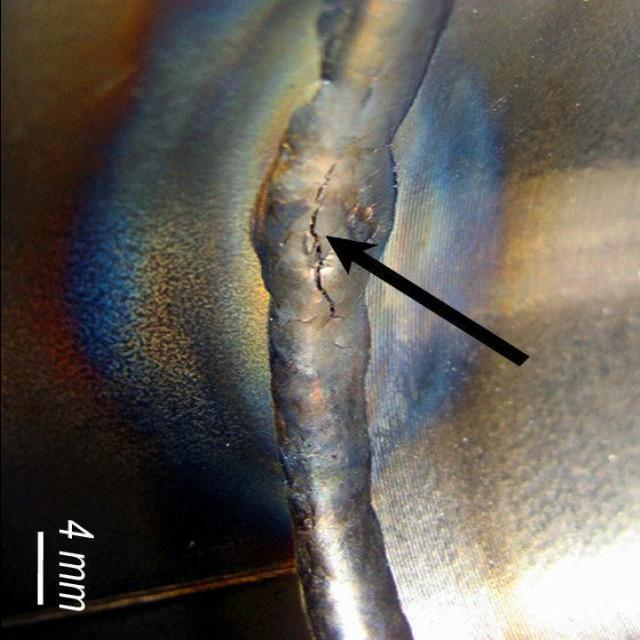Crack: (304, 160, 355, 325)
